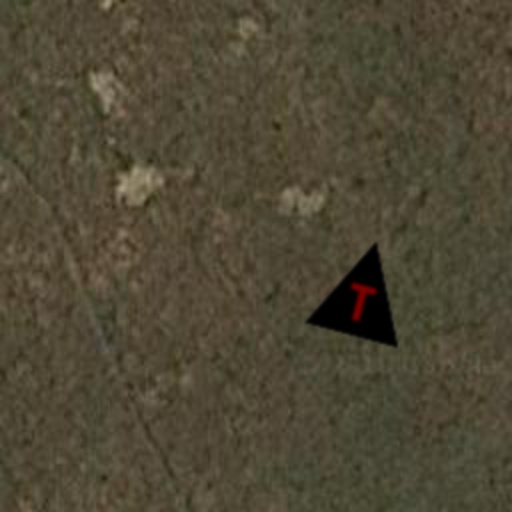triangle: (302, 226, 426, 350)
